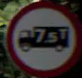Heavy Vehicles: (9, 3, 76, 73)
